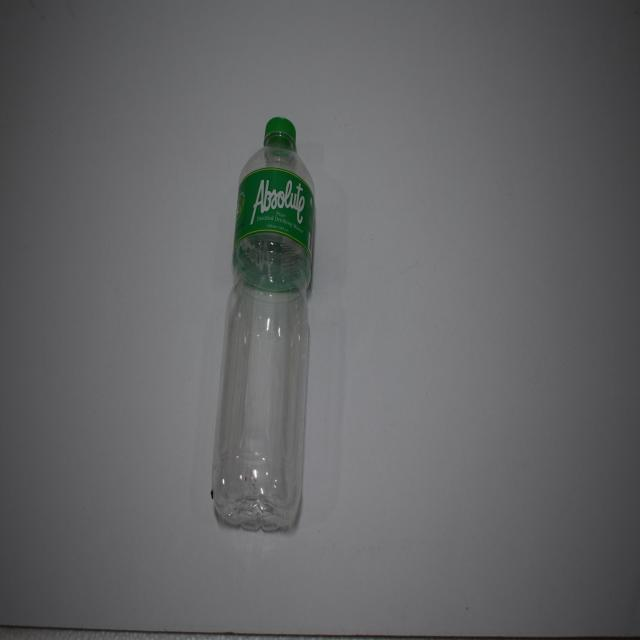bottle: (212, 116, 316, 535)
